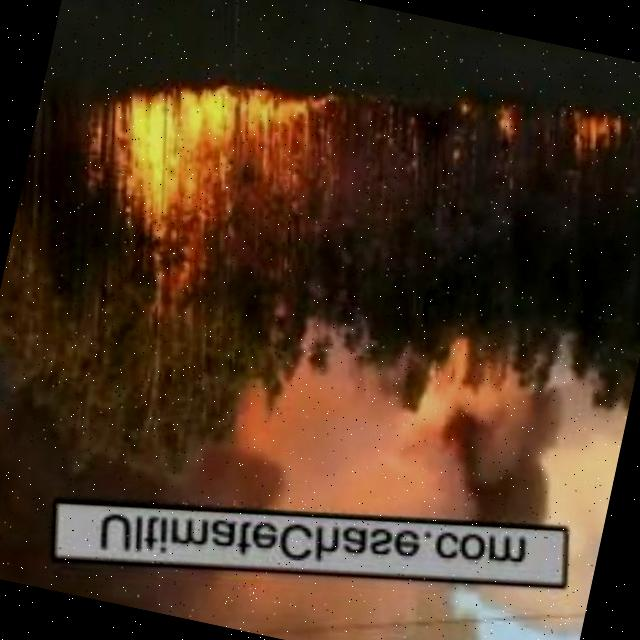fire: (84, 44, 352, 260), (564, 99, 640, 169), (483, 99, 536, 157)
